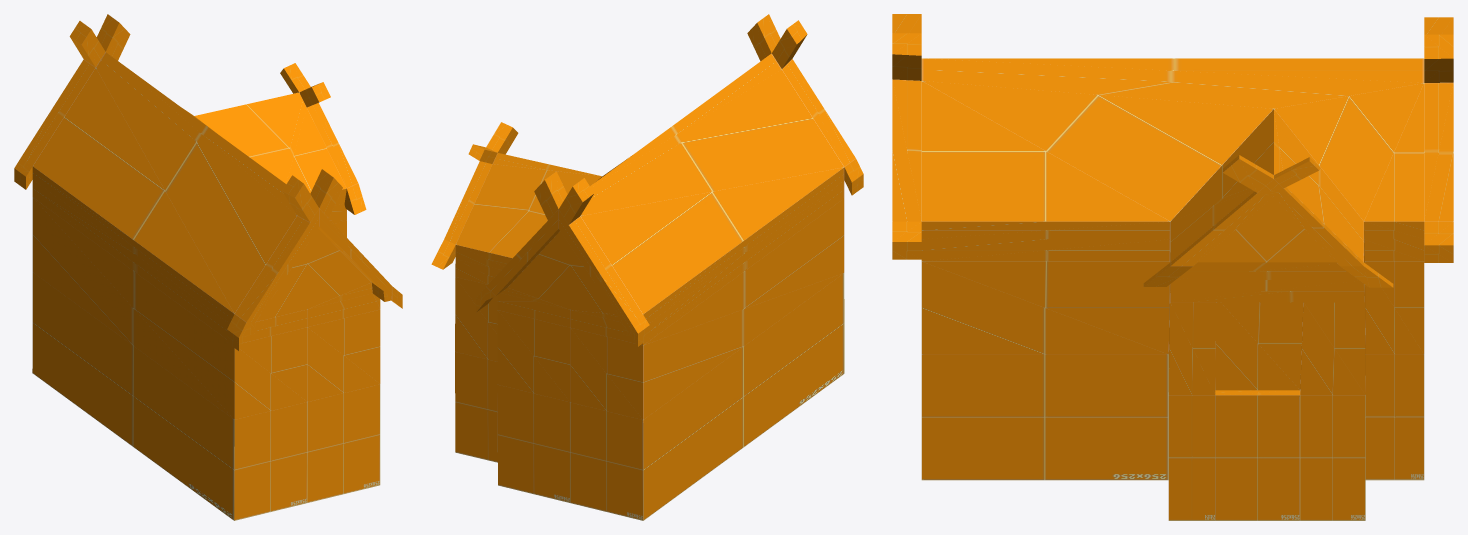
The model's file is house_medium.glb.
3 views of the same model, side by side, from view 1: azimuth 30°, elevation 25°; view 2: azimuth 150°, elevation 25°; view 3: azimuth 270°, elevation 25° (orthographic). The views are drawn at different scales.
Visible parts, largest first — view 1: Cube; view 2: Cube; view 3: Cube.
Boxes of the visible parts, left/top/right/bottom form: Cube: left=14, top=14, right=402, bottom=520; Cube: left=431, top=14, right=863, bottom=520; Cube: left=892, top=14, right=1453, bottom=520.
Bounding box in the file's own units: 10.91 × 14.91 × 18.34.
Materials: 2 (2 with a texture image).
